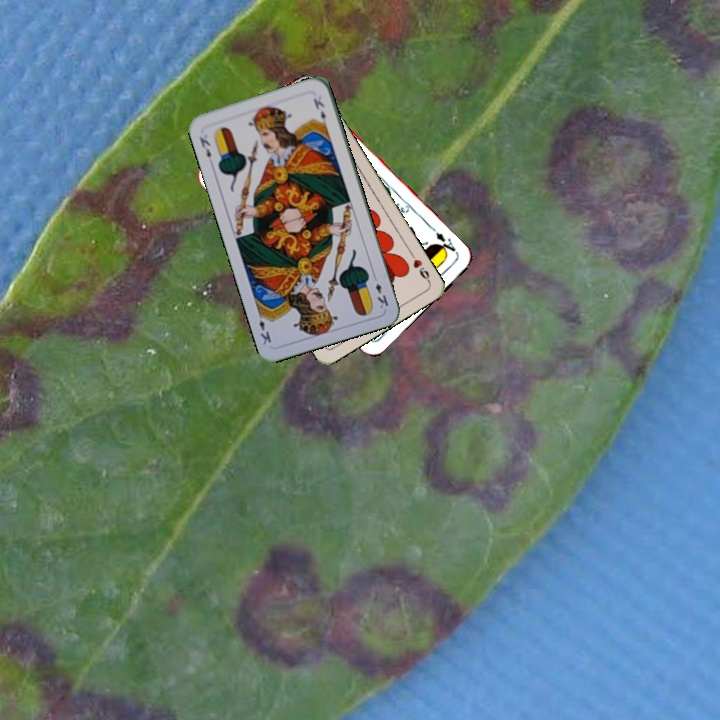EA: (431, 228, 460, 259)
EK: (369, 271, 391, 311), (195, 133, 214, 161)
H9: (406, 248, 433, 285)
